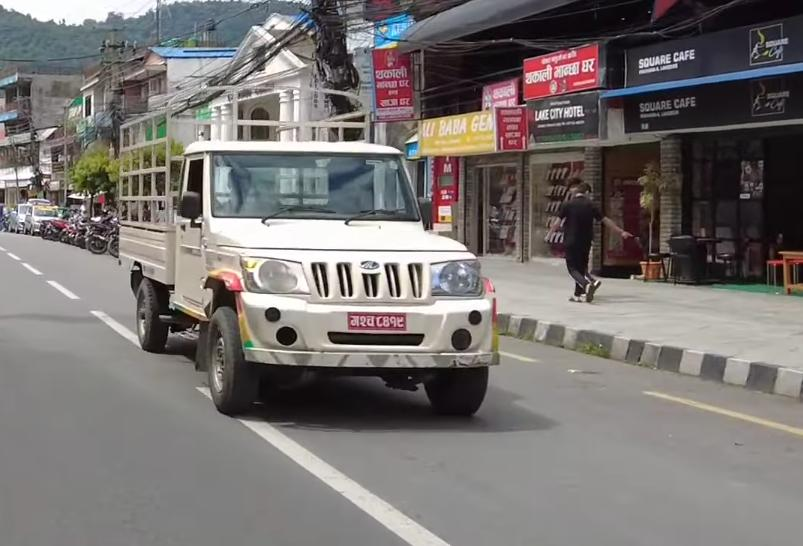bike: (44, 208, 124, 255)
taxi: (5, 191, 58, 243)
transport_vehicle: (103, 99, 506, 427)
